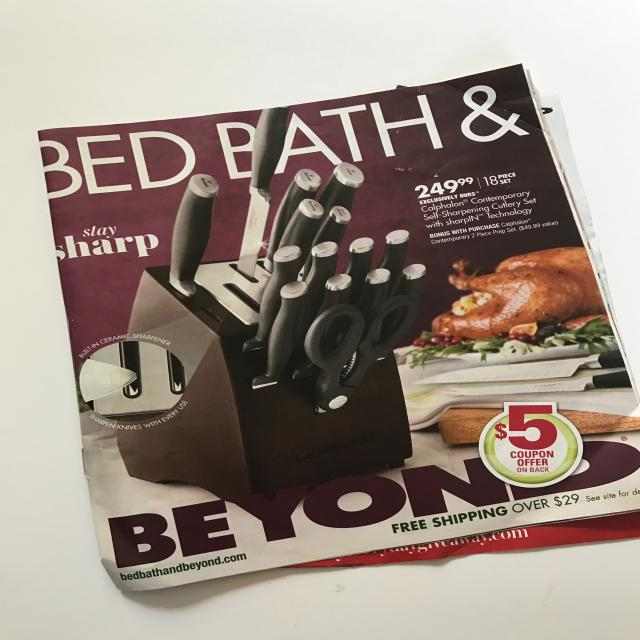paper: (0, 52, 640, 609)
